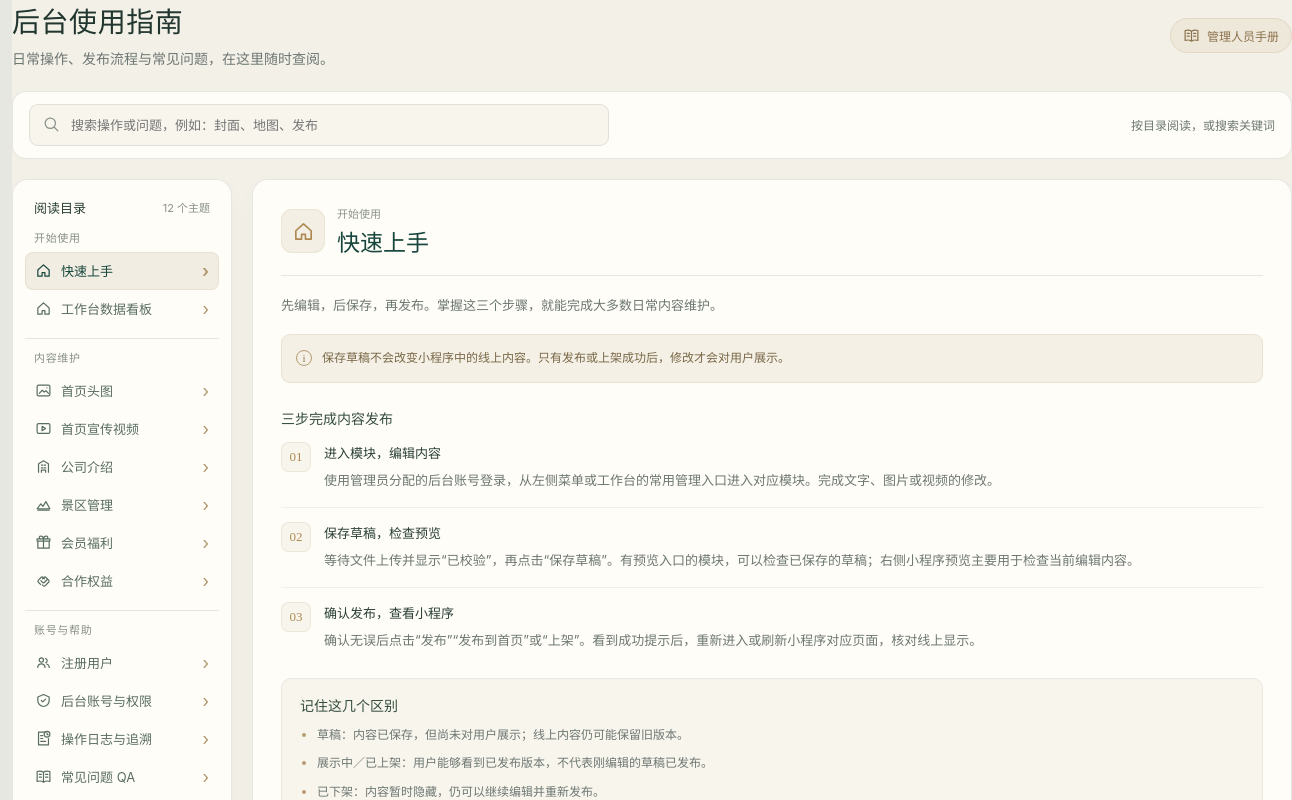
Test: GuidePage › switches chapters and documents product galleries, covers and optional details
What coordinates should you click on to do the following:
click the button "会员福利 ›"
I would click on:
 (122, 543)
Its box is 25,524 -> 219,562.
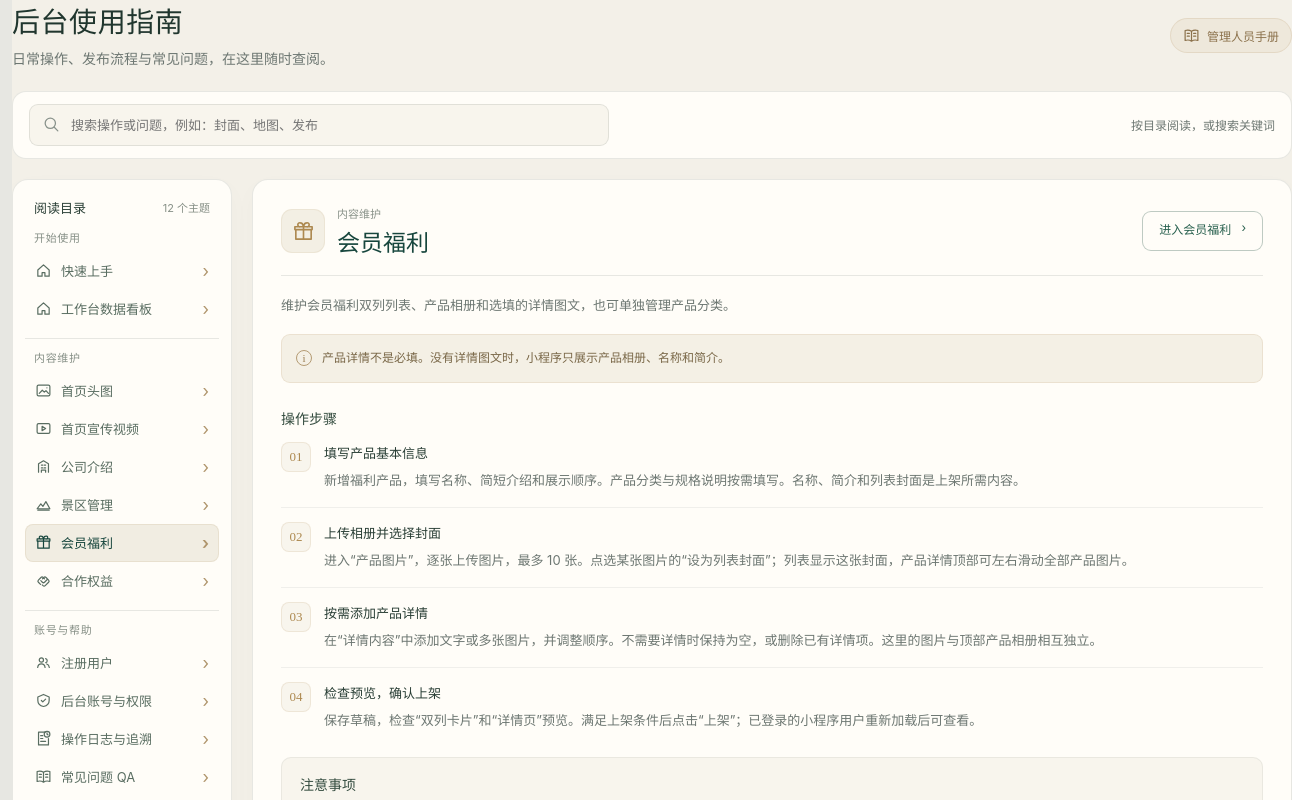
Expected: the heading "会员福利" is shown, 337,224 -> 429,258
Expected: the text "产品详情不是必填。没有详情图文时，小程序只展示产品相册、名称和简介。" is shown, 322,348 -> 730,370
Expected: the text "详情顶部可左右滑动全部产品图片" is shown, 324,552 -> 1135,568
